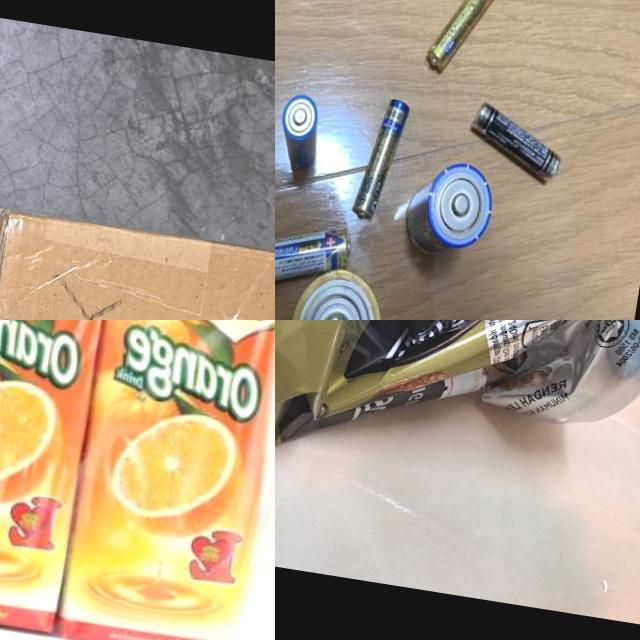bateria: (396, 152, 501, 268), (463, 101, 572, 188), (352, 94, 412, 225), (275, 211, 353, 306), (416, 0, 506, 78), (279, 262, 391, 320), (275, 94, 325, 176)
caixinha: (54, 320, 275, 640), (0, 320, 114, 636)
lata: (275, 320, 640, 506)
papelão: (0, 194, 275, 320)
